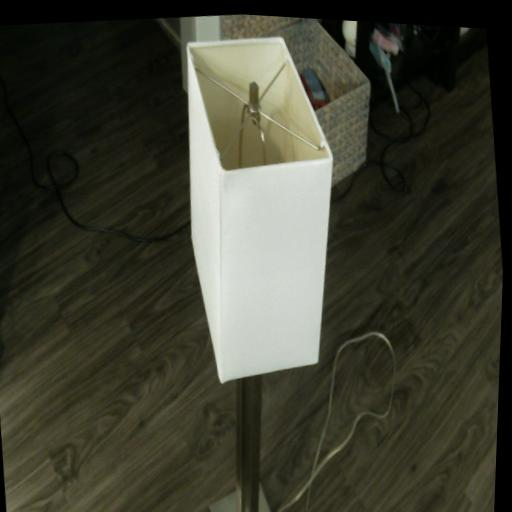lamp: (157, 24, 375, 512)
